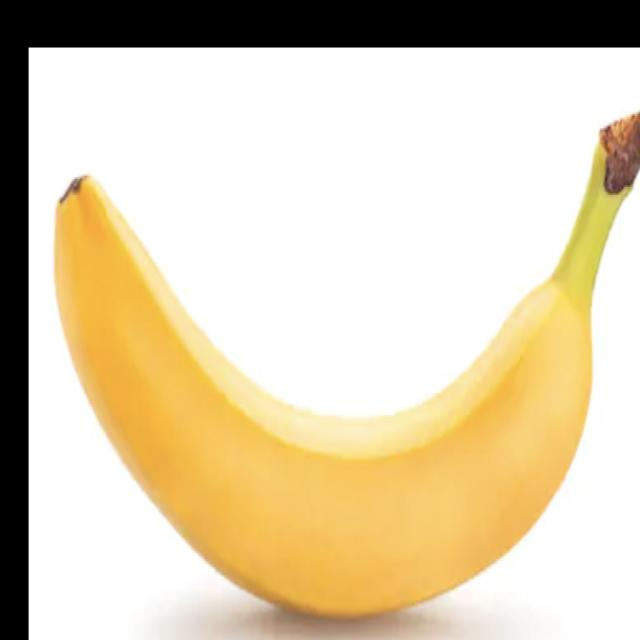Ripe: (50, 95, 640, 617)
